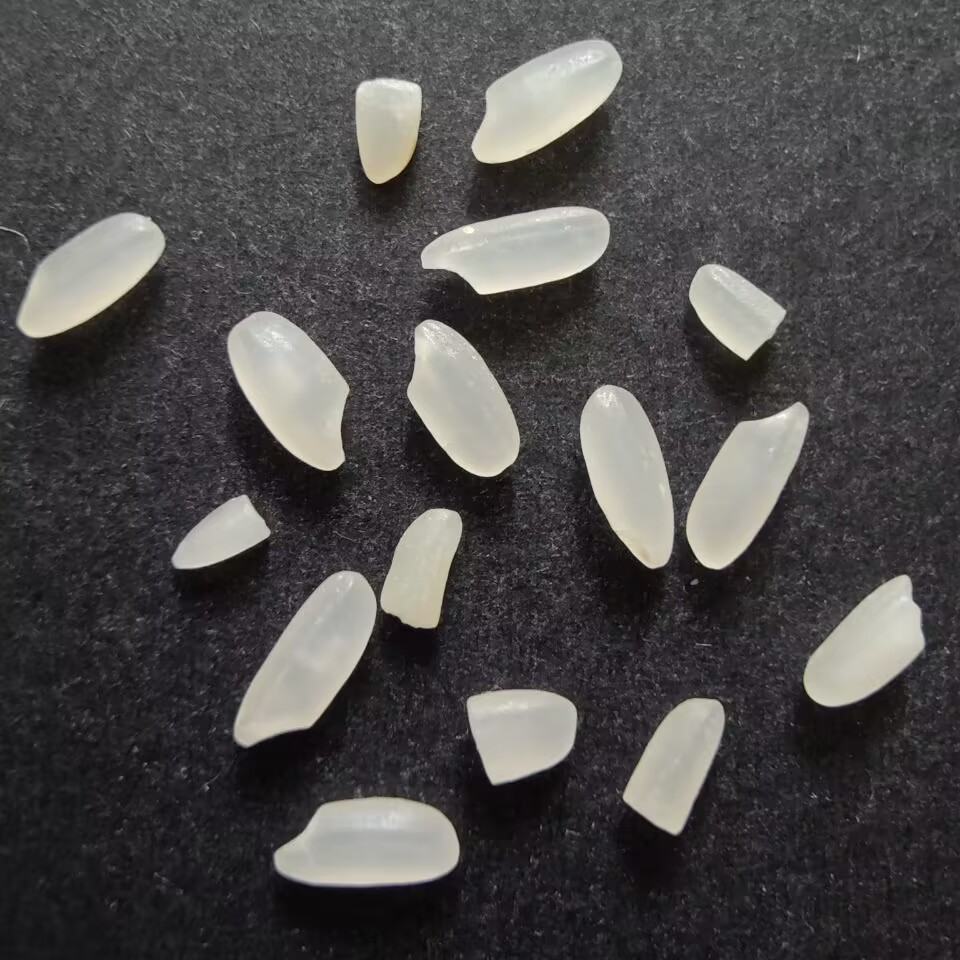broken: (801, 570, 933, 708), (622, 693, 730, 838), (463, 687, 581, 793), (375, 503, 468, 634), (687, 258, 789, 365), (166, 490, 274, 578), (347, 75, 427, 189)
rice: (230, 567, 378, 751), (219, 306, 355, 477), (684, 397, 811, 575), (466, 33, 627, 167), (13, 209, 168, 345), (404, 318, 528, 488), (576, 379, 680, 574), (414, 200, 617, 298), (262, 793, 463, 888)
